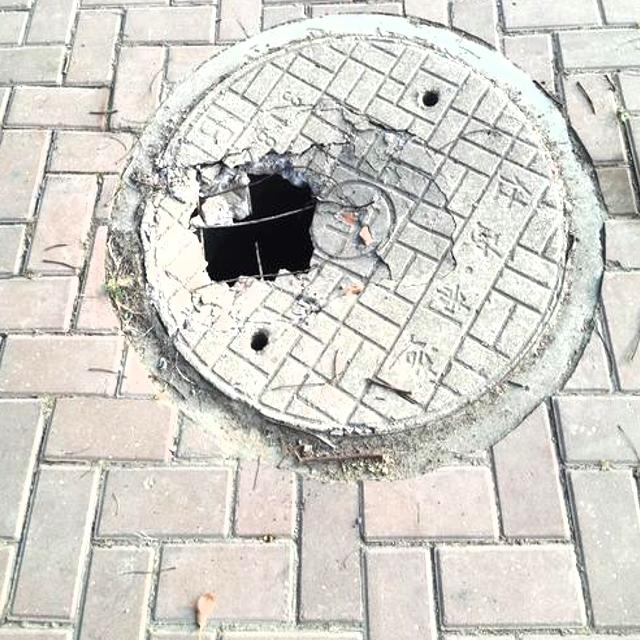broke: (89, 0, 613, 483)
